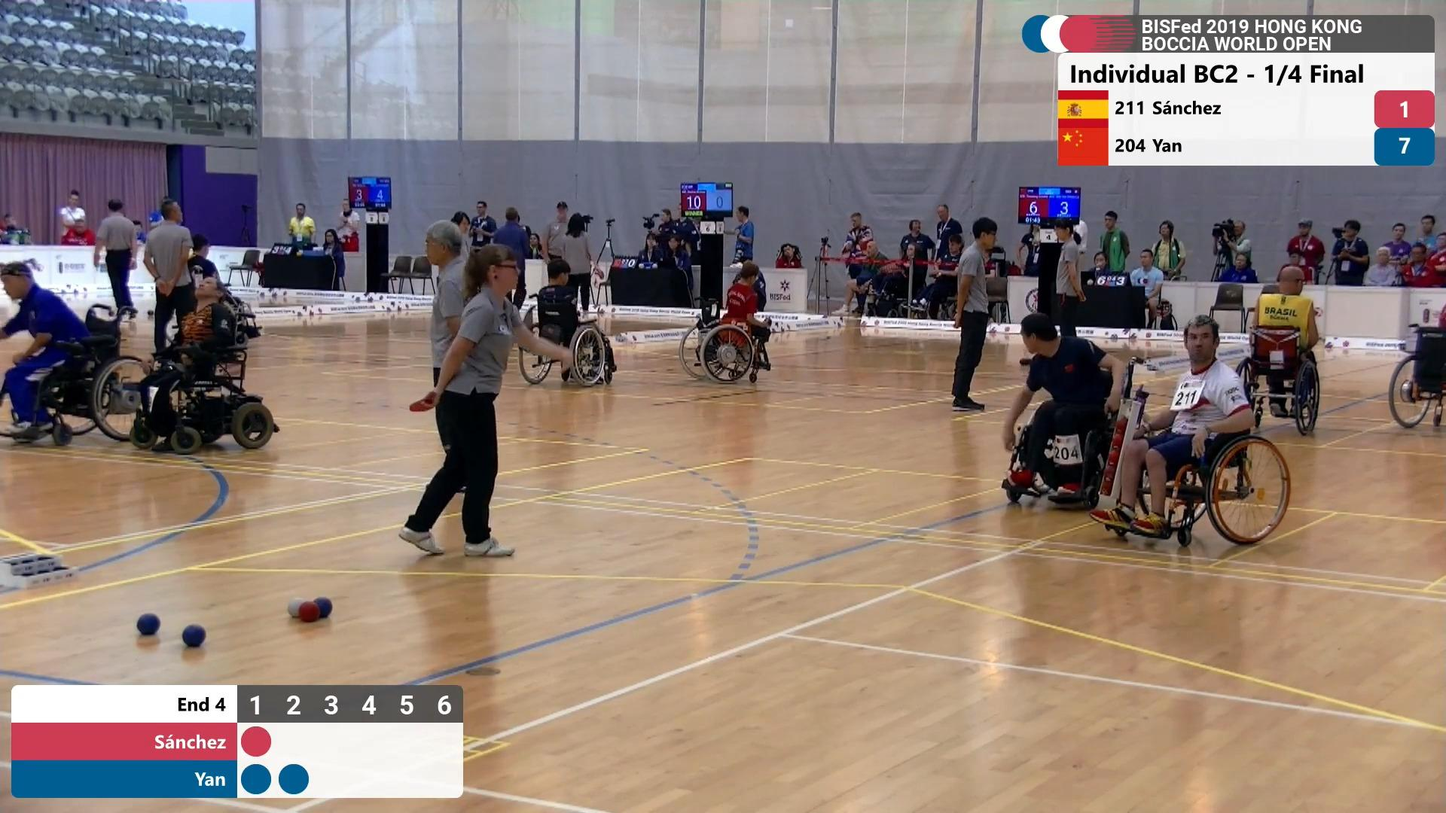blue_ball: (182, 622, 209, 648), (135, 611, 161, 636)
red_ball: (301, 600, 319, 623)
